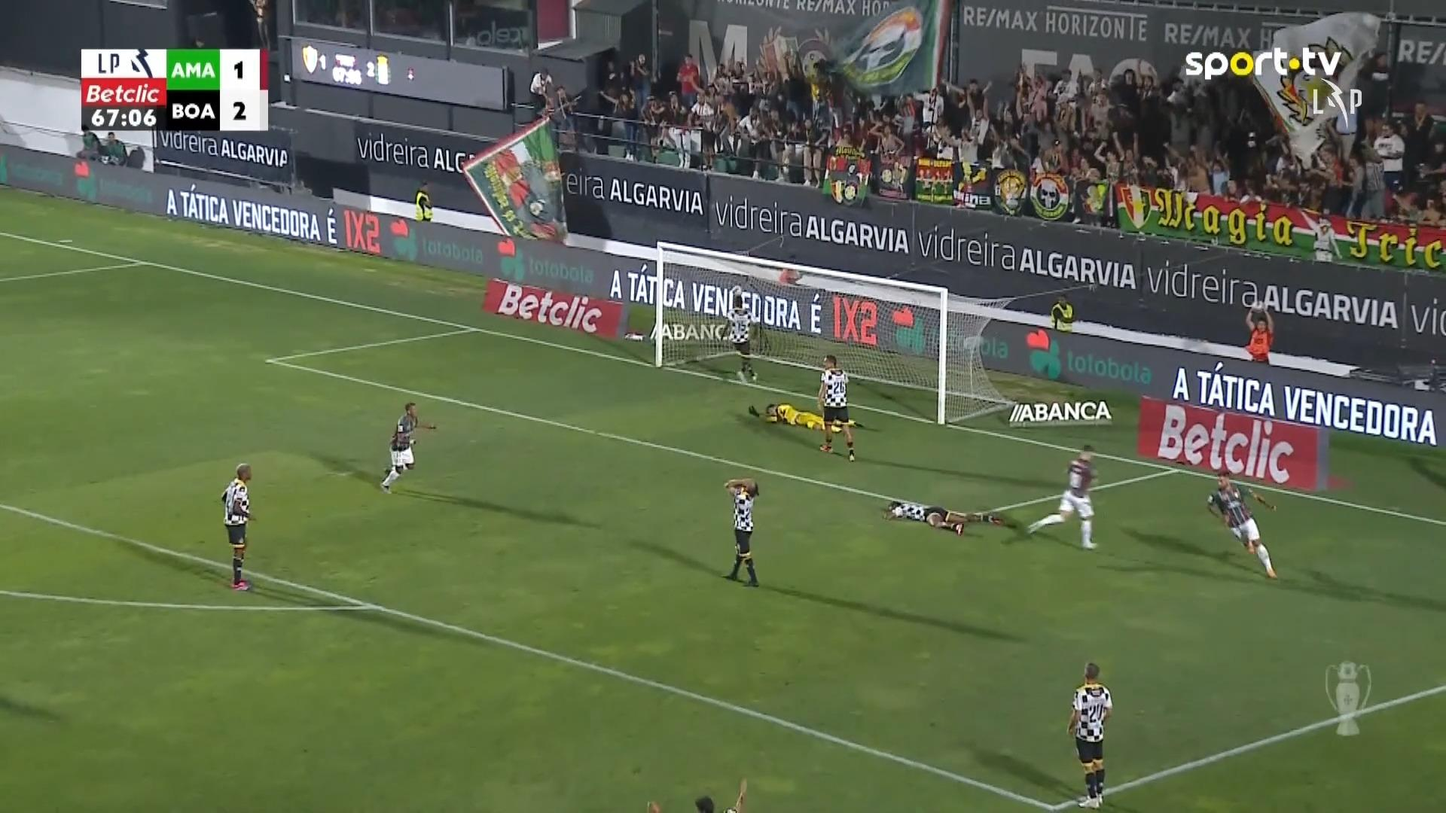goalkeeper: (747, 401, 849, 432)
player: (1205, 468, 1277, 578), (1026, 443, 1100, 550), (1066, 661, 1113, 807), (379, 401, 436, 493), (220, 462, 255, 591), (880, 500, 1004, 535), (816, 353, 856, 461), (722, 477, 760, 586), (719, 296, 758, 382)
